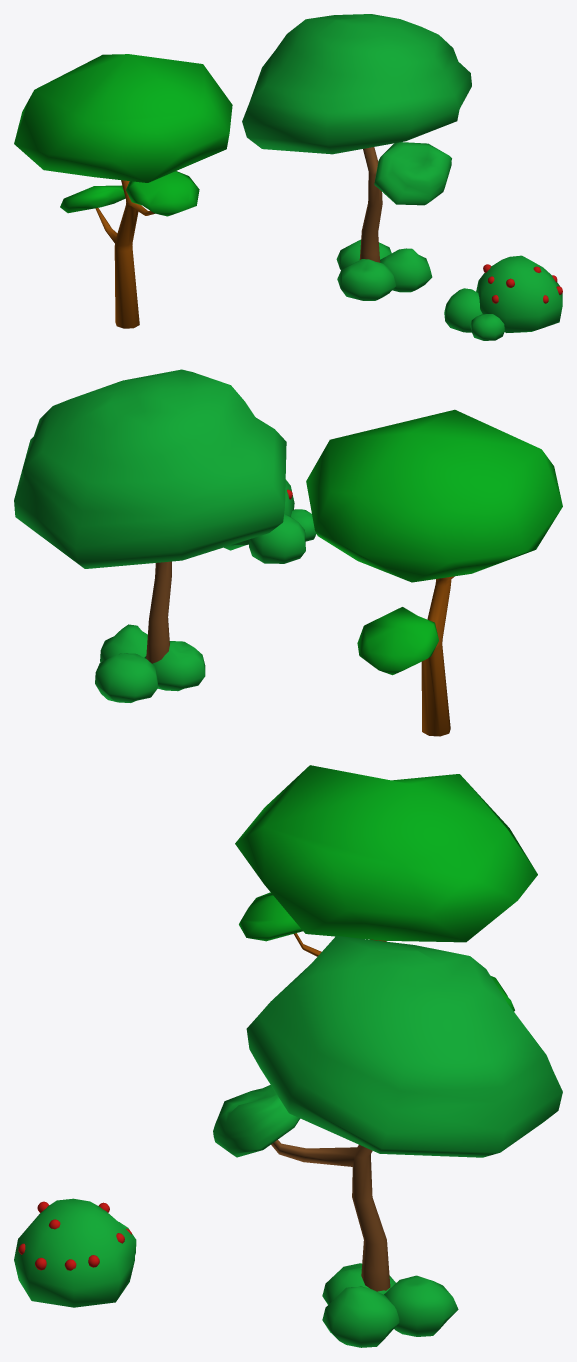
Rendered from jam_objeler.fbx.
The picture shows the model from 3 angles, top to bottom: view 1: azimuth 30°, elevation 25°; view 2: azimuth 150°, elevation 25°; view 3: azimuth 270°, elevation 25°; orthographic projection. The views are drawn at different scales.
Visible parts, largest first — view 1: Cylinder, Cylinder.001, Sphere; view 2: Cylinder, Cylinder.001, Sphere; view 3: Cylinder, Cylinder.001, Sphere.
Boxes of the visible parts, x1,y1,x2,y2 form: Cylinder: (242, 14, 471, 300); Cylinder.001: (14, 54, 232, 328); Sphere: (444, 255, 562, 340); Cylinder: (14, 369, 286, 702); Cylinder.001: (306, 409, 562, 736); Sphere: (224, 479, 316, 563); Cylinder: (213, 935, 562, 1347); Cylinder.001: (235, 765, 537, 1011); Sphere: (14, 1198, 136, 1307).
Bounding box in the file's own units: 2086 × 1283 × 1655.
